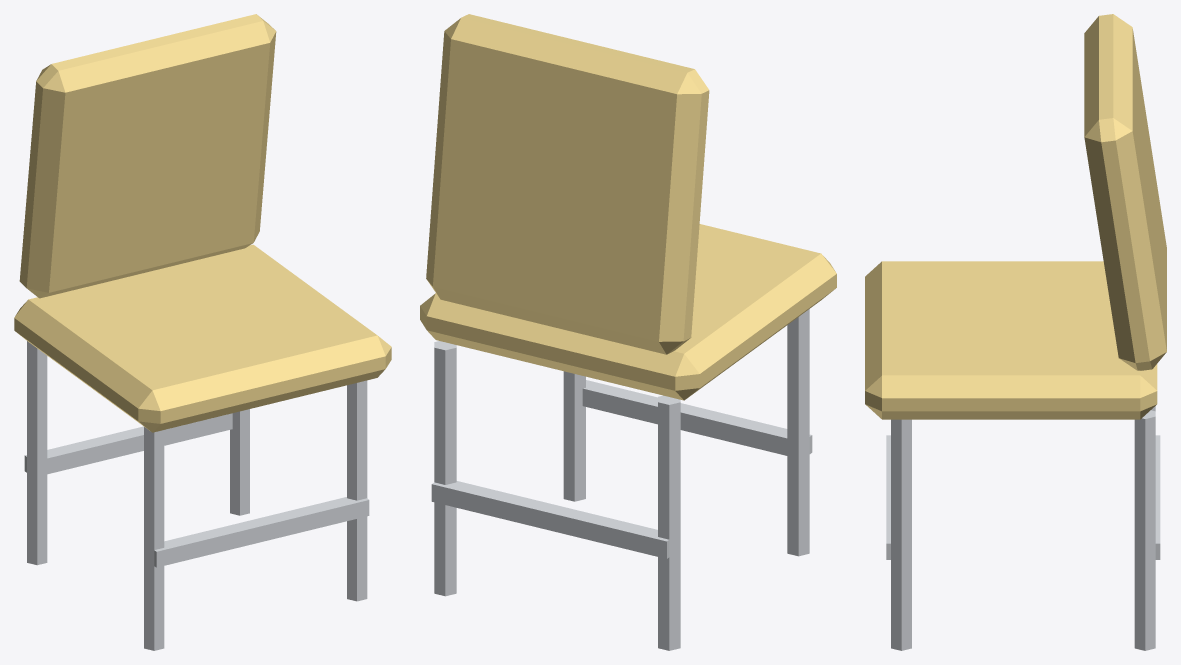
The model's file is medical-23634.glb.
3 views of the same model, side by side, from view 1: azimuth 30°, elevation 25°; view 2: azimuth 150°, elevation 25°; view 3: azimuth 270°, elevation 25° (orthographic). The views are drawn at different scales.
Parts seen in each view (by area): view 1: single-chair-sun; view 2: single-chair-sun; view 3: single-chair-sun.
Boxes of the visible parts, x1=… form: single-chair-sun: x1=14, y1=14, x2=391, y2=650; single-chair-sun: x1=420, y1=14, x2=836, y2=650; single-chair-sun: x1=865, y1=14, x2=1166, y2=650.
Bounding box in the file's own units: 0.5 × 0.9572 × 0.4957.
